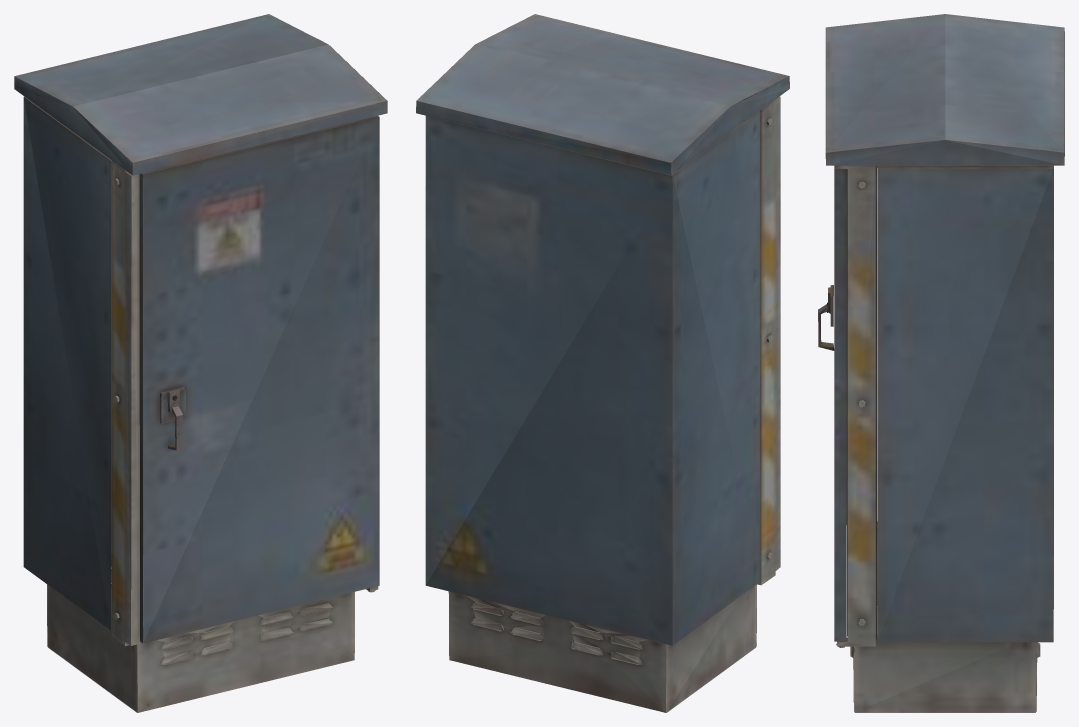
Rendered from utility_box_01.glb.
3 renders of one model, left to right at view 1: azimuth 30°, elevation 25°; view 2: azimuth 150°, elevation 25°; view 3: azimuth 270°, elevation 25°, orthographic.
Visible parts, largest first — view 1: utility_box_01_box; view 2: utility_box_01_box; view 3: utility_box_01_box.
Boxes of the visible parts, box(x1,y1,x2,y2) form: utility_box_01_box: box(14, 14, 387, 712); utility_box_01_box: box(416, 14, 789, 712); utility_box_01_box: box(818, 14, 1064, 712).
Bounding box in the file's own units: 0.5178 × 1.12 × 0.4298.
1 material, 1 textured.
